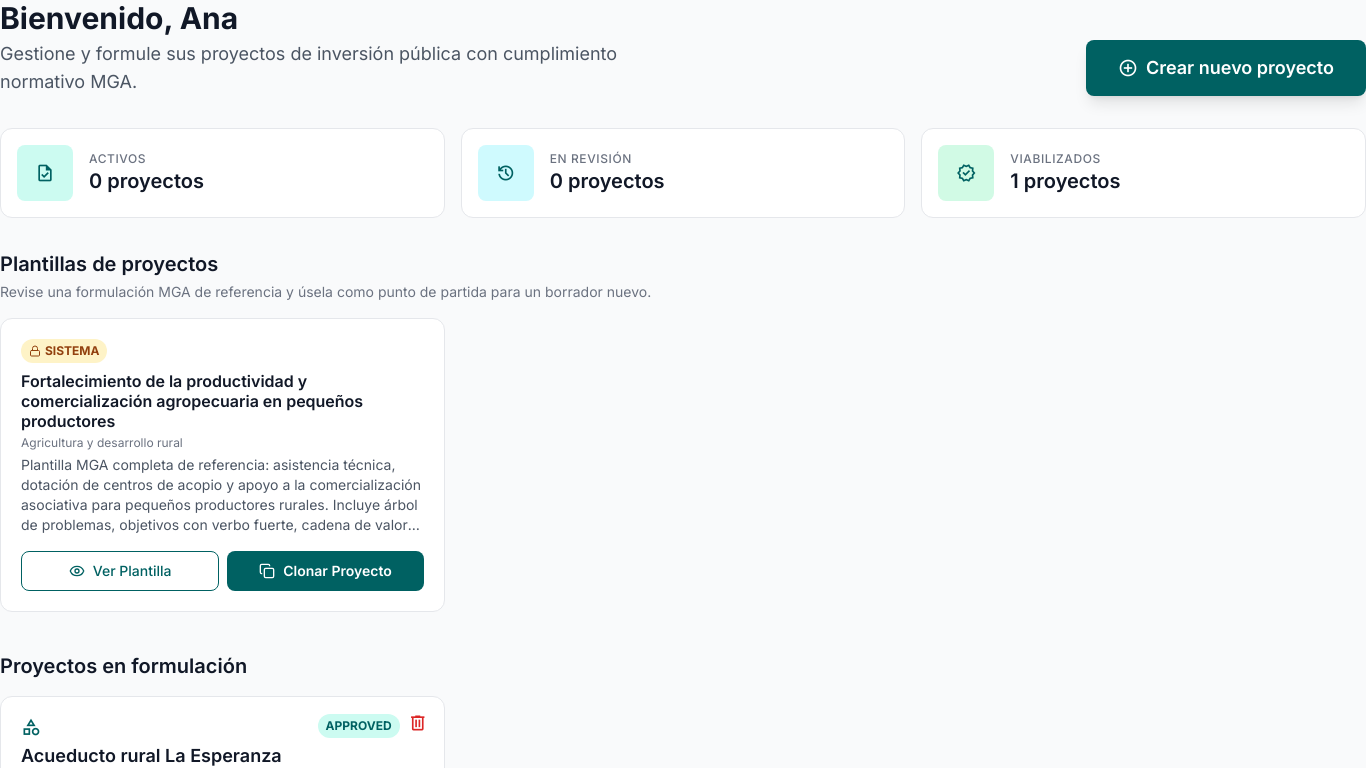
Test case: ProjectsDashboard › eliminación de proyectos › proyecto avanzado exige escribir el nombre antes de eliminar
The width and height of the screenshot is (1366, 768).
Click the button named "Eliminar Proyecto". click: (418, 726)
box: [404,709,432,743]
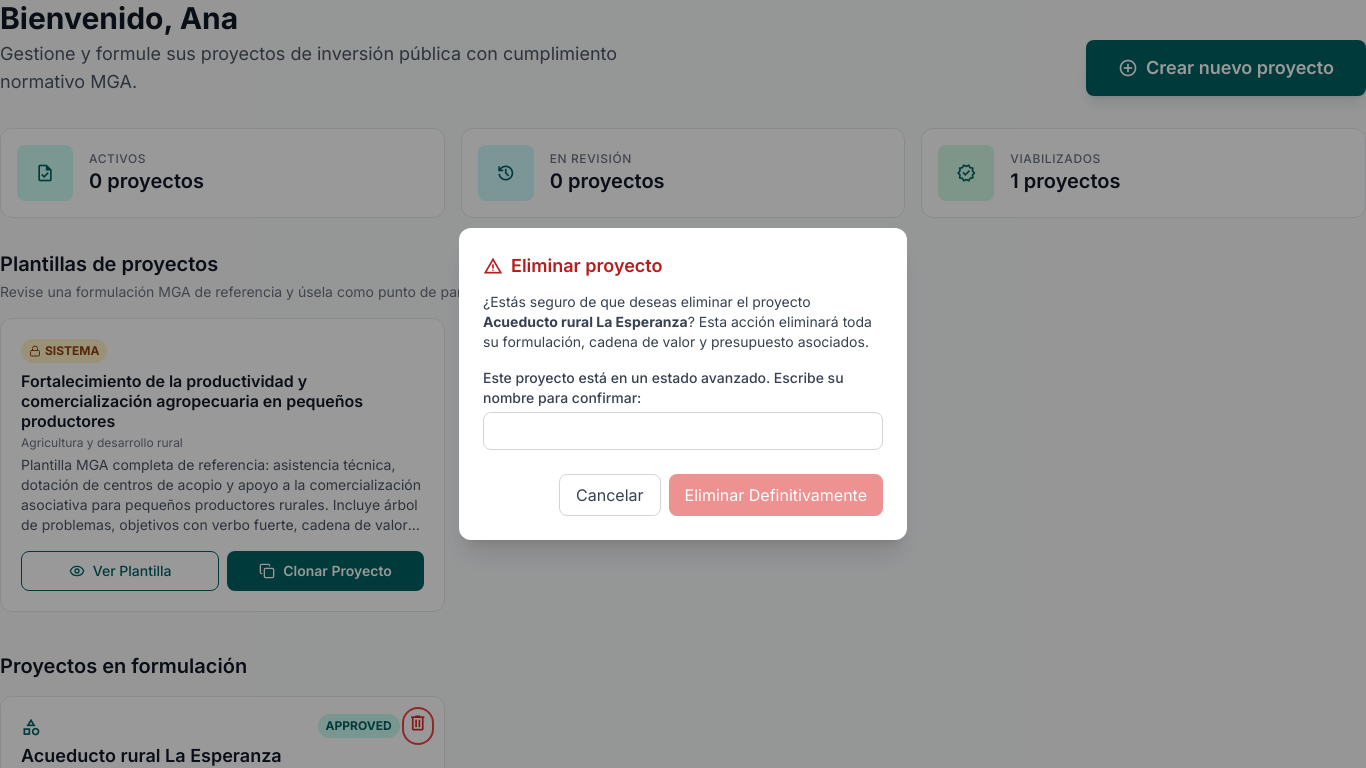
Now the button "Eliminar Definitivamente" is disabled, box [669,474,883,516]
Type "Acueducto rural La Esperanza" into the field. click: (683, 431)
box: [483,412,883,450]
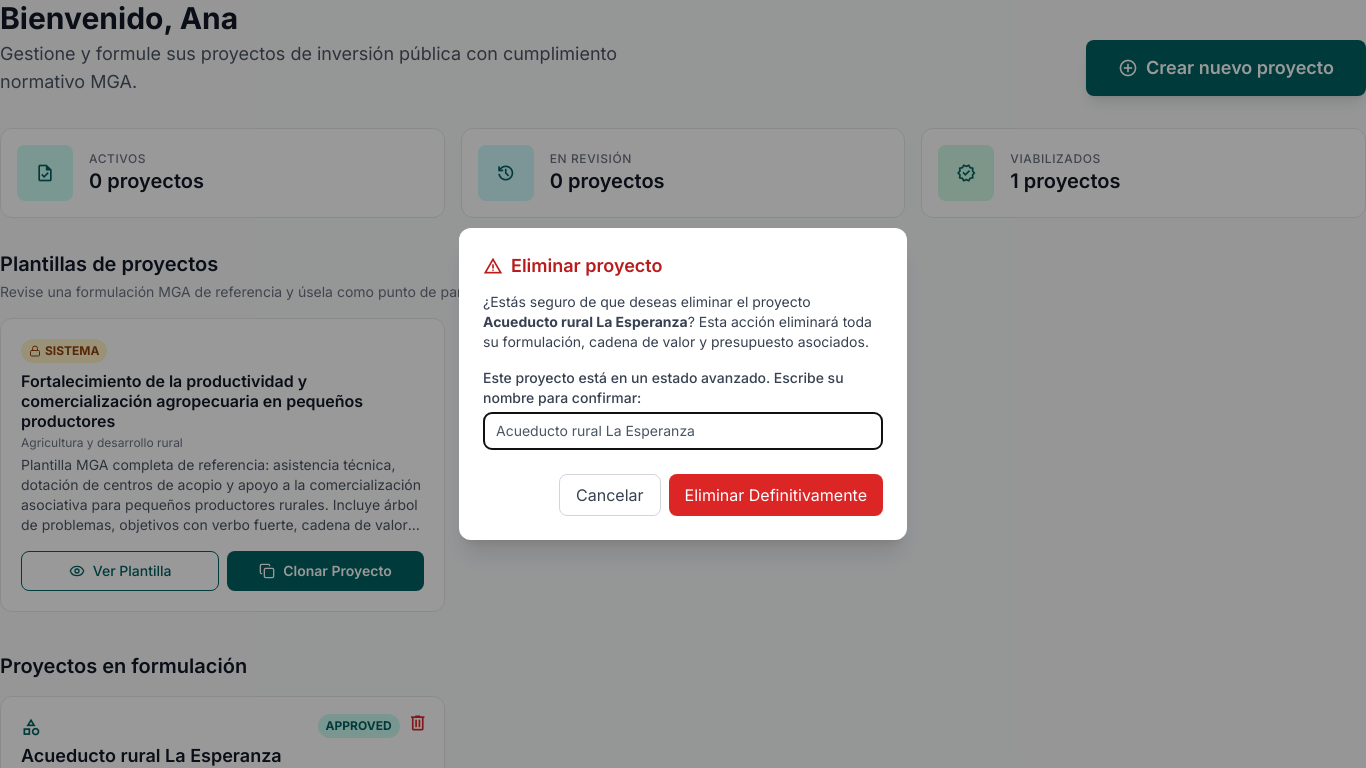
Now the button "Eliminar Definitivamente" is enabled, box [669,474,883,516]
